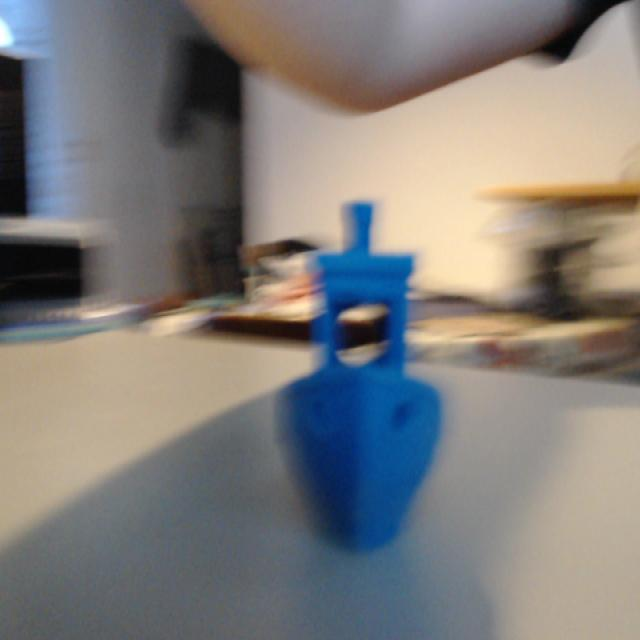benchy: (272, 195, 445, 554)
